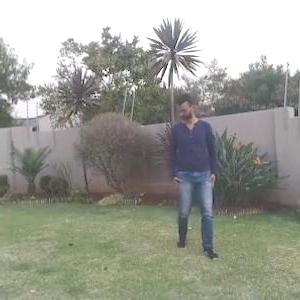follow: (169, 89, 223, 258)
